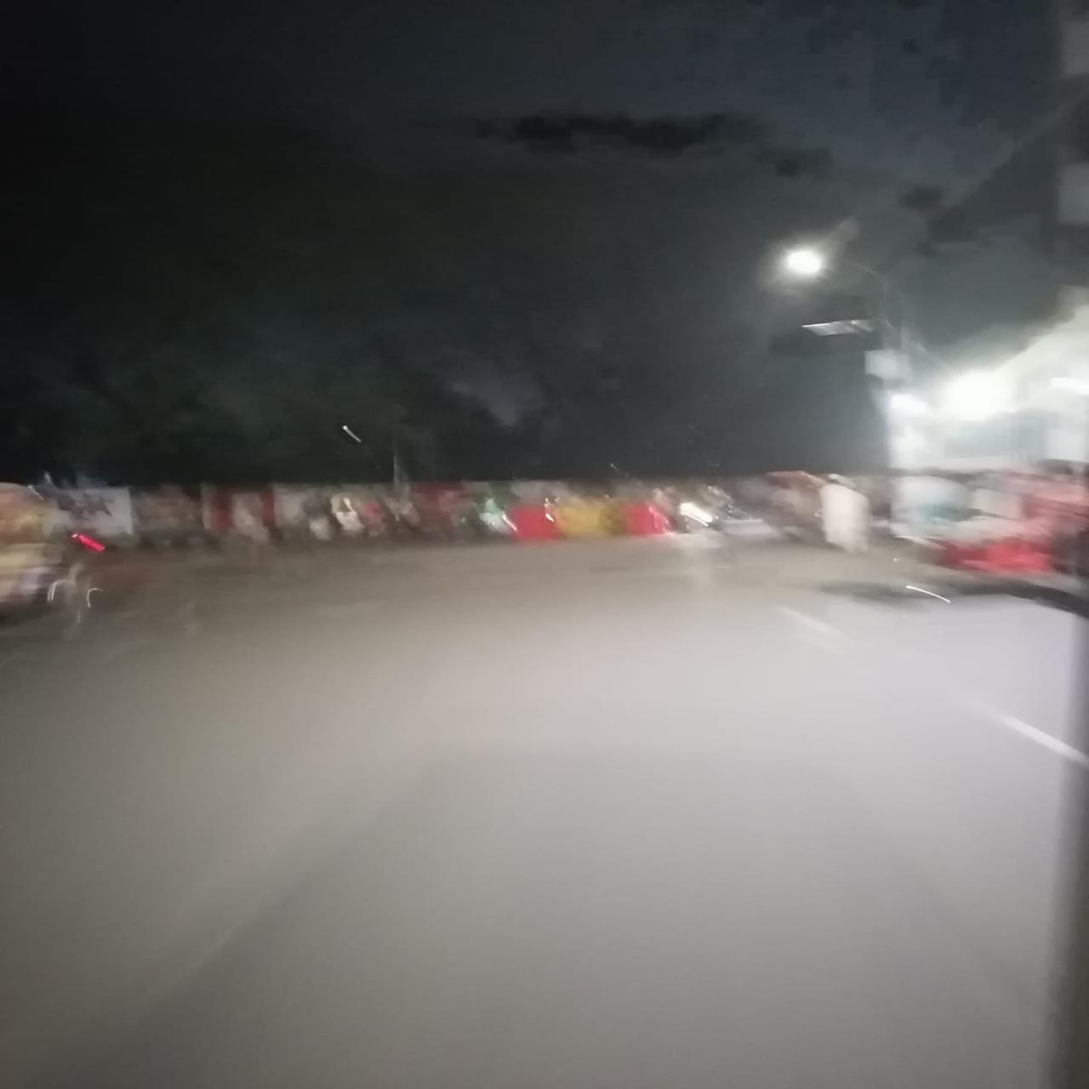person: (809, 471, 877, 557)
